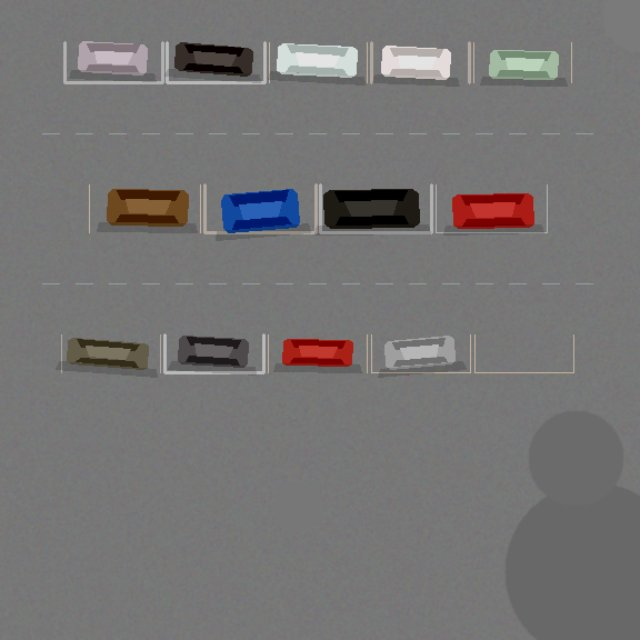space-empty: (474, 334, 573, 372)
space-occupied: (204, 184, 316, 232), (89, 184, 200, 232), (320, 184, 431, 232), (436, 184, 547, 232), (64, 42, 162, 82), (269, 42, 367, 82), (371, 42, 469, 82), (473, 42, 571, 82), (167, 42, 264, 82), (61, 334, 160, 372), (164, 334, 263, 372), (268, 334, 367, 372), (371, 334, 470, 372)
